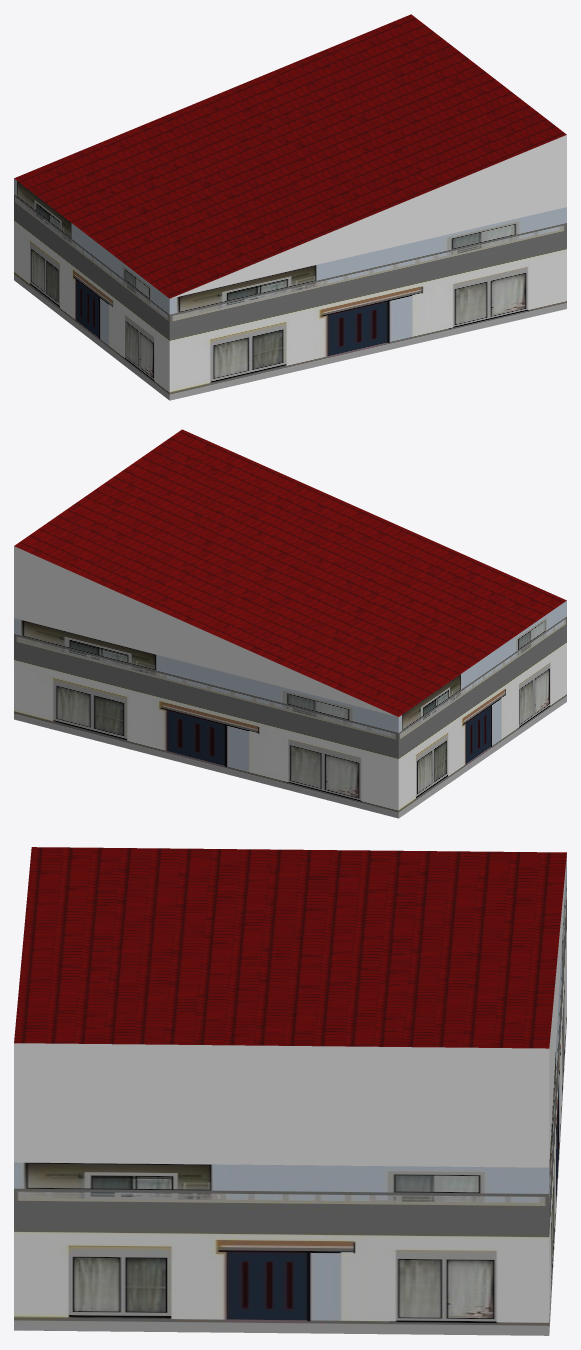
3 views of the same model, one above another, from view 1: azimuth 30°, elevation 25°; view 2: azimuth 150°, elevation 25°; view 3: azimuth 270°, elevation 25° (orthographic). The views are drawn at different scales.
Visible parts, largest first — view 1: CityEngineMaterial_17_m, CityEngineMaterial_7_m, CityEngineMaterial_3_m; view 2: CityEngineMaterial_17_m, CityEngineMaterial_7_m, CityEngineMaterial_3_m; view 3: CityEngineMaterial_17_m, CityEngineMaterial_7_m, CityEngineMaterial_3_m.
Part boxes in pixels (<box>): CityEngineMaterial_17_m: <box>14,14,566,298</box>; CityEngineMaterial_7_m: <box>14,178,566,400</box>; CityEngineMaterial_3_m: <box>170,135,566,298</box>; CityEngineMaterial_17_m: <box>14,429,566,716</box>; CityEngineMaterial_7_m: <box>14,600,566,818</box>; CityEngineMaterial_3_m: <box>14,546,397,716</box>; CityEngineMaterial_17_m: <box>14,847,566,1048</box>; CityEngineMaterial_7_m: <box>14,855,566,1335</box>; CityEngineMaterial_3_m: <box>14,854,566,1167</box>.
Size of the model in its own units: 25.37 by 10.6 by 18.48.
